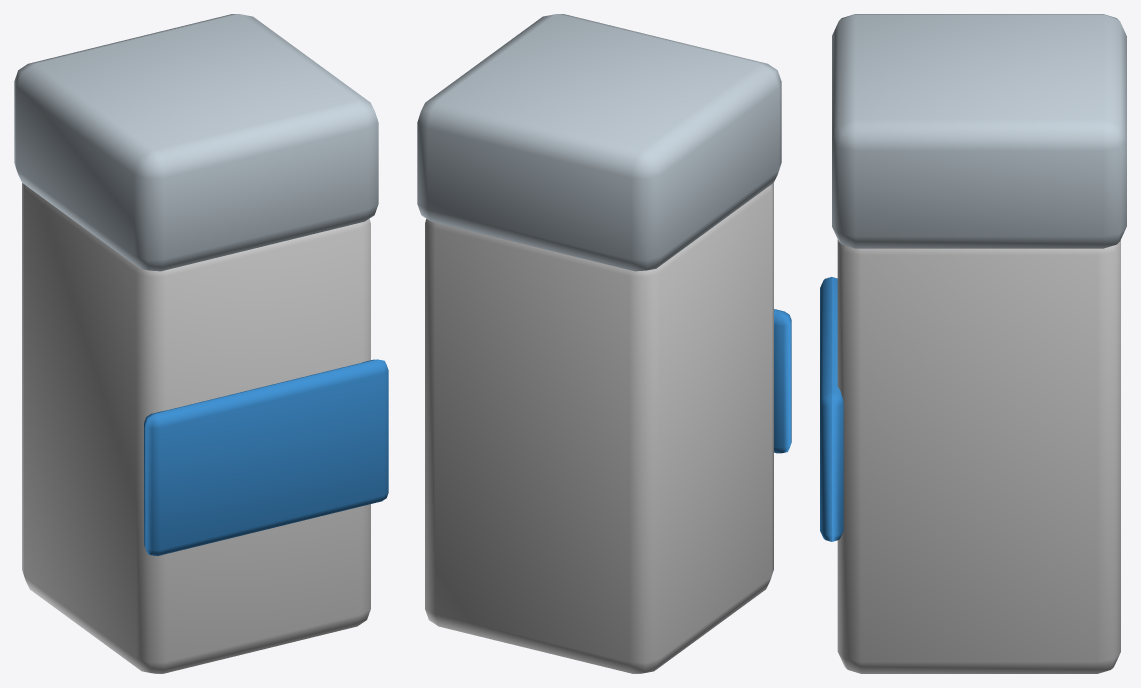
Rendered from ing_milk.glb.
3 renders of one model, left to right at view 1: azimuth 30°, elevation 25°; view 2: azimuth 150°, elevation 25°; view 3: azimuth 270°, elevation 25°, orthographic. The views are drawn at different scales.
Visible parts, largest first — view 1: ing_milk; view 2: ing_milk; view 3: ing_milk.
Boxes of the visible parts, box(x1,y1,x2,y2) form: ing_milk: box(14, 14, 388, 673); ing_milk: box(417, 14, 791, 673); ing_milk: box(820, 14, 1126, 673).
Bounding box in the file's own units: 0.25 × 0.52 × 0.26.
